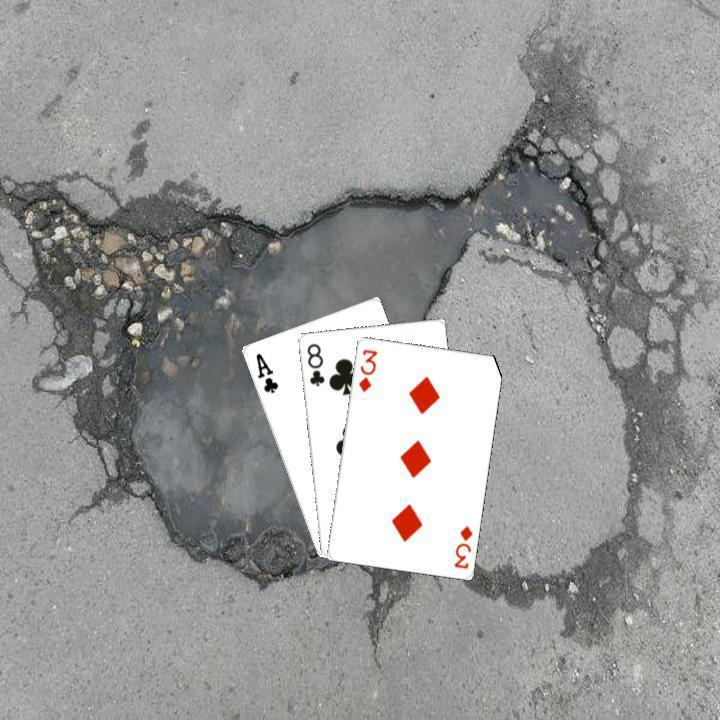3: (354, 345, 379, 394), (449, 521, 474, 570)
8: (302, 339, 326, 388)
A: (251, 348, 280, 395)
